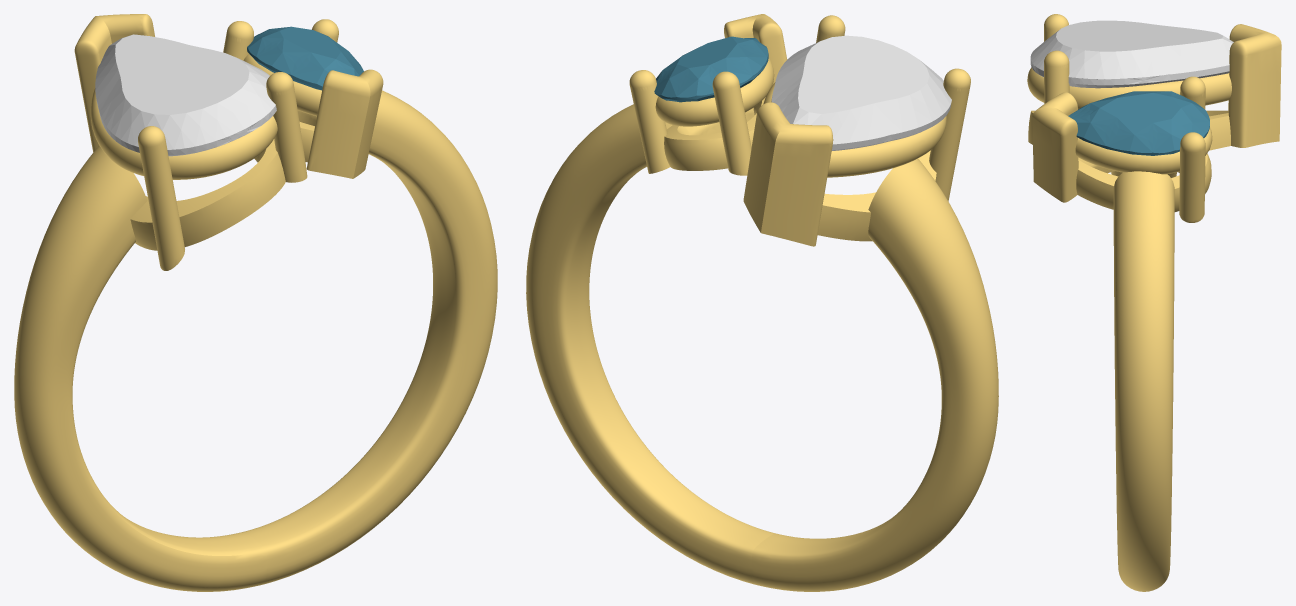
Rendered from nicolasV4tem_blender.glb.
The picture shows the model from 3 angles, left to right: view 1: azimuth 30°, elevation 25°; view 2: azimuth 150°, elevation 25°; view 3: azimuth 270°, elevation 25°; orthographic projection. The views are drawn at different scales.
Parts seen in each view (by area): view 1: V4 Nicolas YG for 3d model, V4 Nicolas center diamond for 3d model, V4 Nicolas sapphire for 3d model; view 2: V4 Nicolas YG for 3d model, V4 Nicolas center diamond for 3d model, V4 Nicolas sapphire for 3d model; view 3: V4 Nicolas YG for 3d model, V4 Nicolas center diamond for 3d model, V4 Nicolas sapphire for 3d model.
Boxes of the visible parts, box(x1,y1,x2,y2) form: V4 Nicolas YG for 3d model: box(14, 14, 497, 591); V4 Nicolas center diamond for 3d model: box(95, 34, 276, 156); V4 Nicolas sapphire for 3d model: box(247, 26, 363, 90); V4 Nicolas YG for 3d model: box(526, 14, 998, 591); V4 Nicolas center diamond for 3d model: box(771, 35, 951, 150); V4 Nicolas sapphire for 3d model: box(654, 36, 768, 102); V4 Nicolas YG for 3d model: box(1027, 14, 1281, 591); V4 Nicolas center diamond for 3d model: box(1030, 20, 1233, 88); V4 Nicolas sapphire for 3d model: box(1068, 91, 1209, 155).
Size of the model in its own units: 19.89 by 21.98 by 10.
